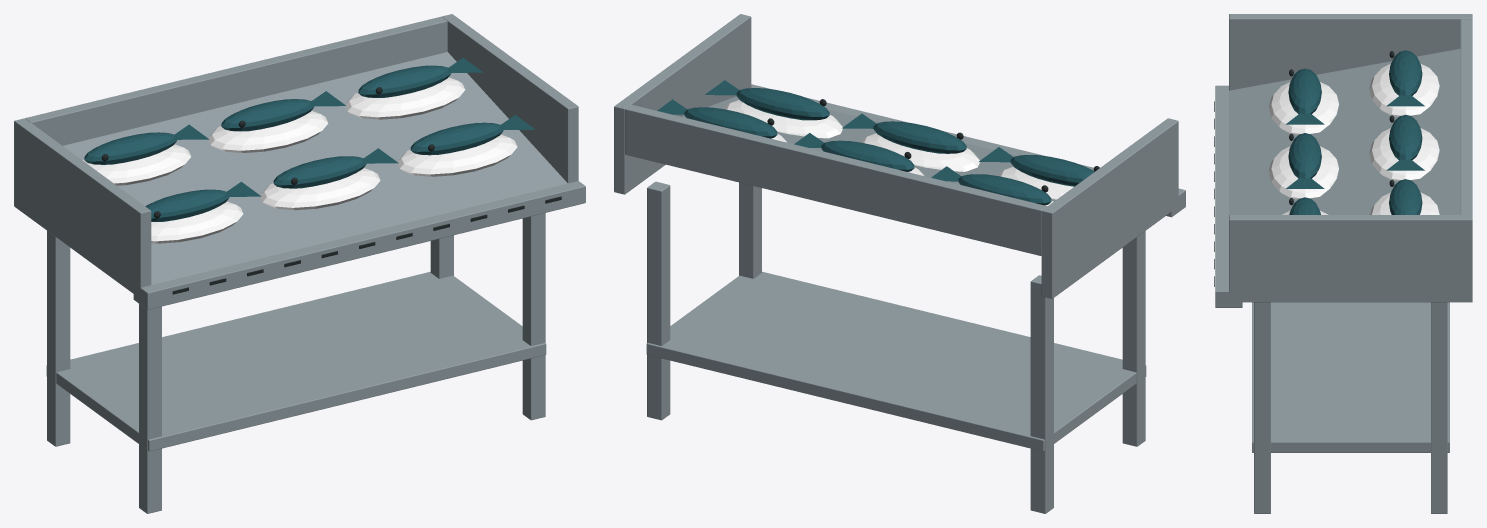
The model's file is wet-market-fish-counter.glb.
3 renders of one model, left to right at view 1: azimuth 30°, elevation 25°; view 2: azimuth 150°, elevation 25°; view 3: azimuth 270°, elevation 25°, orthographic. The views are drawn at different scales.
Visible parts, largest first — view 1: Lower_Shelf, Ice_Well_Base, Well_Back, Well_Side, Drain_Gutter, Well_Side.001, Leg.001, Leg.002, Leg, Ice_Mound, Ice_Mound.003, Ice_Mound.005 (+10 smaller); view 2: Lower_Shelf, Well_Back, Well_Side, Well_Side.001, Leg.003, Leg.001, Leg, Leg.002, Ice_Well_Base, Removable_Fish.003, Removable_Fish.005, Removable_Fish.001 (+7 smaller); view 3: Lower_Shelf, Well_Side.001, Ice_Well_Base, Well_Side, Leg.002, Leg.003, Drain_Gutter, Well_Back, Ice_Mound.004, Ice_Mound.001, Ice_Mound.002, Ice_Mound.003 (+9 smaller).
Part boxes in pixels (x1,y1,x2,y2): Lower_Shelf: [46, 271, 546, 451]; Ice_Well_Base: [63, 52, 567, 284]; Well_Back: [25, 16, 447, 145]; Well_Side: [14, 118, 151, 293]; Drain_Gutter: [133, 181, 585, 309]; Well_Side.001: [442, 14, 578, 183]; Leg.001: [47, 231, 70, 446]; Leg.002: [522, 213, 545, 420]; Leg: [139, 304, 161, 513]; Ice_Mound: [345, 77, 465, 119]; Ice_Mound.003: [260, 168, 380, 210]; Ice_Mound.005: [397, 134, 517, 176]; Lower_Shelf: [646, 271, 1146, 451]; Well_Back: [625, 104, 1047, 255]; Well_Side: [1041, 118, 1178, 298]; Well_Side.001: [614, 14, 751, 194]; Leg.003: [647, 181, 670, 420]; Leg.001: [1030, 275, 1053, 513]; Leg: [1122, 231, 1145, 446]; Leg.002: [739, 182, 761, 278]; Ice_Well_Base: [681, 96, 1055, 201]; Removable_Fish.003: [873, 121, 966, 153]; Removable_Fish.005: [736, 88, 829, 120]; Removable_Fish.001: [1010, 155, 1094, 186]; Lower_Shelf: [1252, 302, 1449, 452]; Well_Side.001: [1229, 215, 1472, 302]; Ice_Well_Base: [1229, 48, 1460, 214]; Well_Side: [1229, 14, 1472, 90]; Leg.002: [1254, 302, 1270, 513]; Leg.003: [1431, 302, 1447, 513]; Drain_Gutter: [1215, 85, 1242, 307]; Well_Back: [1460, 19, 1472, 214]; Ice_Mound.004: [1369, 128, 1439, 181]; Ice_Mound.001: [1268, 82, 1338, 135]; Ice_Mound.002: [1369, 63, 1439, 116]; Ice_Mound.003: [1268, 146, 1338, 199].
Size of the model in its own units: 1.6 by 1.1 by 0.8485.
